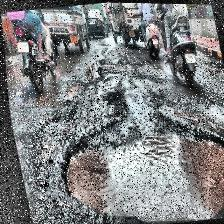pothole: (44, 106, 224, 224)
